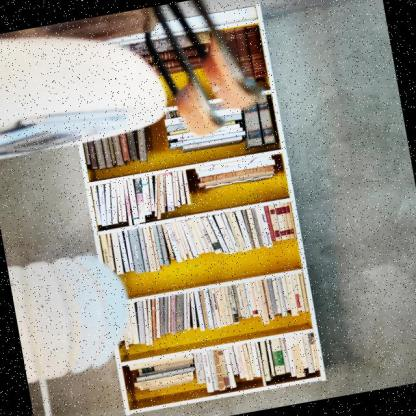Shelf: (51, 0, 335, 416)
